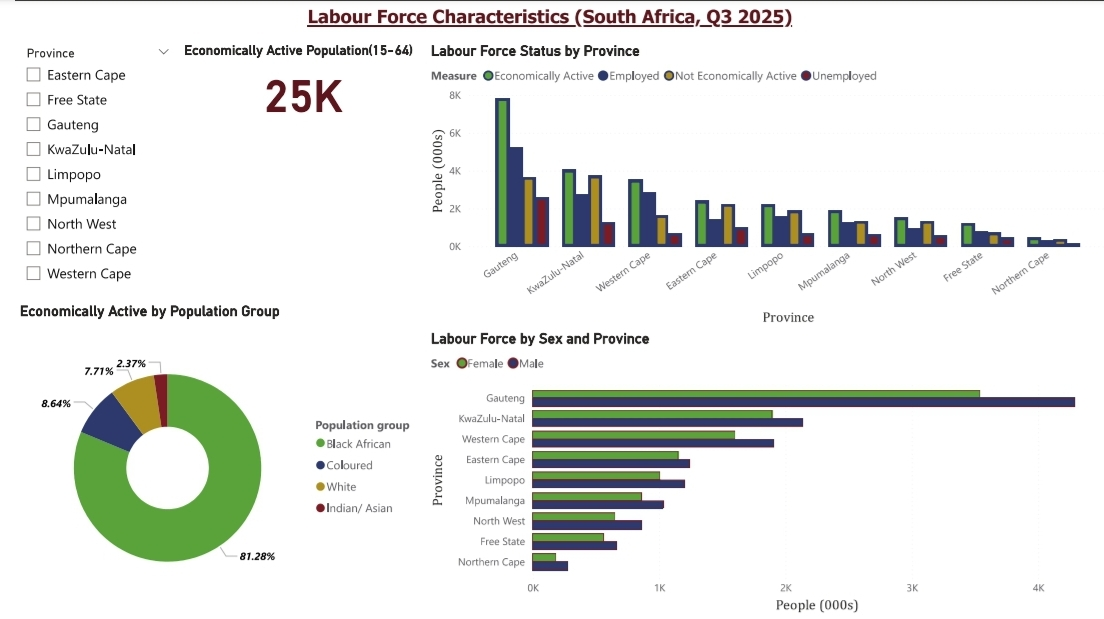

This screenshot's page, from the dashboard's own definition file:
{"tool":"powerbi","page":{"name":"Page 1","canvas":[1280,720],"ordinal":0},"visuals":[{"type":"clusteredColumnChart","title":"Labour Force Status by Province","fields":{"Y":["Sum(Sheet1.Persons(000s))"],"Series":["Sheet1.Measure"],"Category":["Sheet1.Province"]},"box":[480,47.8,800,336],"z":0},{"type":"slicer","fields":{"Values":["Sheet1.Province"]},"box":[0,48,192,288],"z":1000},{"type":"clusteredBarChart","title":"Labour Force by Sex and Province","fields":{"Category":["Sheet1.Province"],"Y":["Sum(Sheet1.Persons(000s))"],"Series":["Sheet1.Sex"]},"box":[480,384,800,336],"z":2000},{"type":"card","title":"Economically Active Population(15-64)","fields":{"Values":["Sum(Sheet1.Persons(000s))"]},"box":[192,47.8,288,96],"z":3000},{"type":"donutChart","title":"Economically Active by Population Group","fields":{"Y":["Sum(Sheet1.Persons(000s))"],"Category":["Sheet1.Population group"]},"box":[0,352,480,368],"z":4000},{"type":"textbox","box":[288,0,672,48],"z":5000}]}

Visuals, with their boxes in screenshot pixels (x1, y1, x2, y2), scaled from the page's 1280x720 canvas onto the 1104x619 screenshot:
"Labour Force Status by Province" clusteredColumnChart: l=414, t=41, r=1103, b=330
slicer - Sheet1.Province: l=0, t=41, r=166, b=289
"Labour Force by Sex and Province" clusteredBarChart: l=414, t=330, r=1103, b=618
"Economically Active Population(15-64)" card: l=166, t=41, r=414, b=124
"Economically Active by Population Group" donutChart: l=0, t=303, r=414, b=618
textbox: l=248, t=0, r=828, b=41
